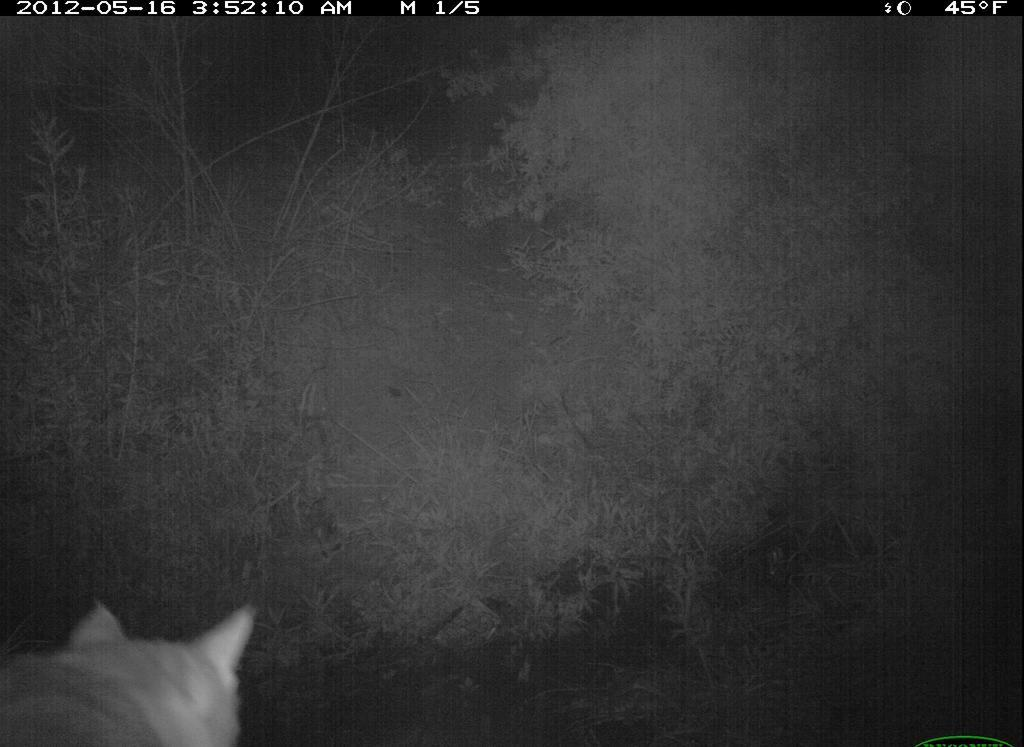cat: (3, 591, 267, 747)
